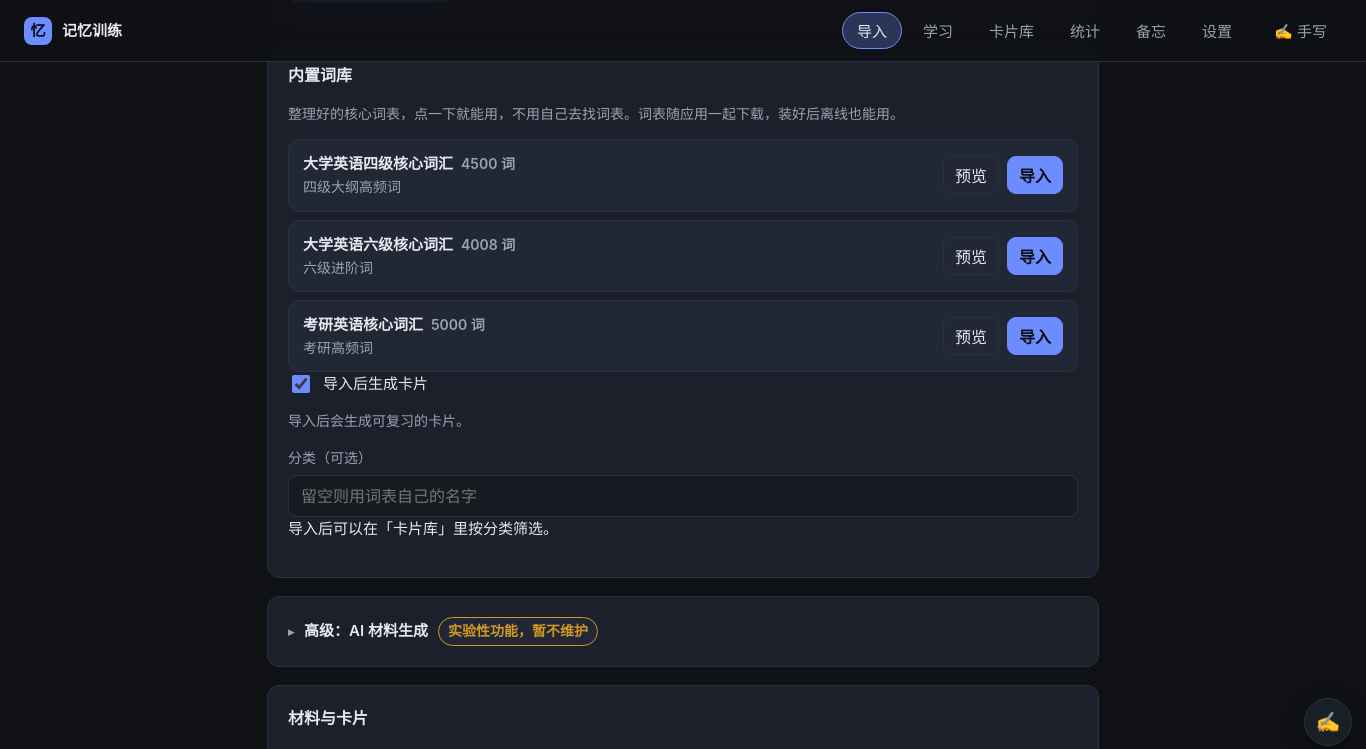
Test: 内置词库面板 › 取消勾选后只保存词表，不生成卡片
(page scrolled)
Expected: the heading "内置词库" is shown, x1=288 y1=65 x2=352 y2=85
Click the checkbox labelled "导入后生成卡片": click(301, 384) x1=292 y1=376 x2=310 y2=394
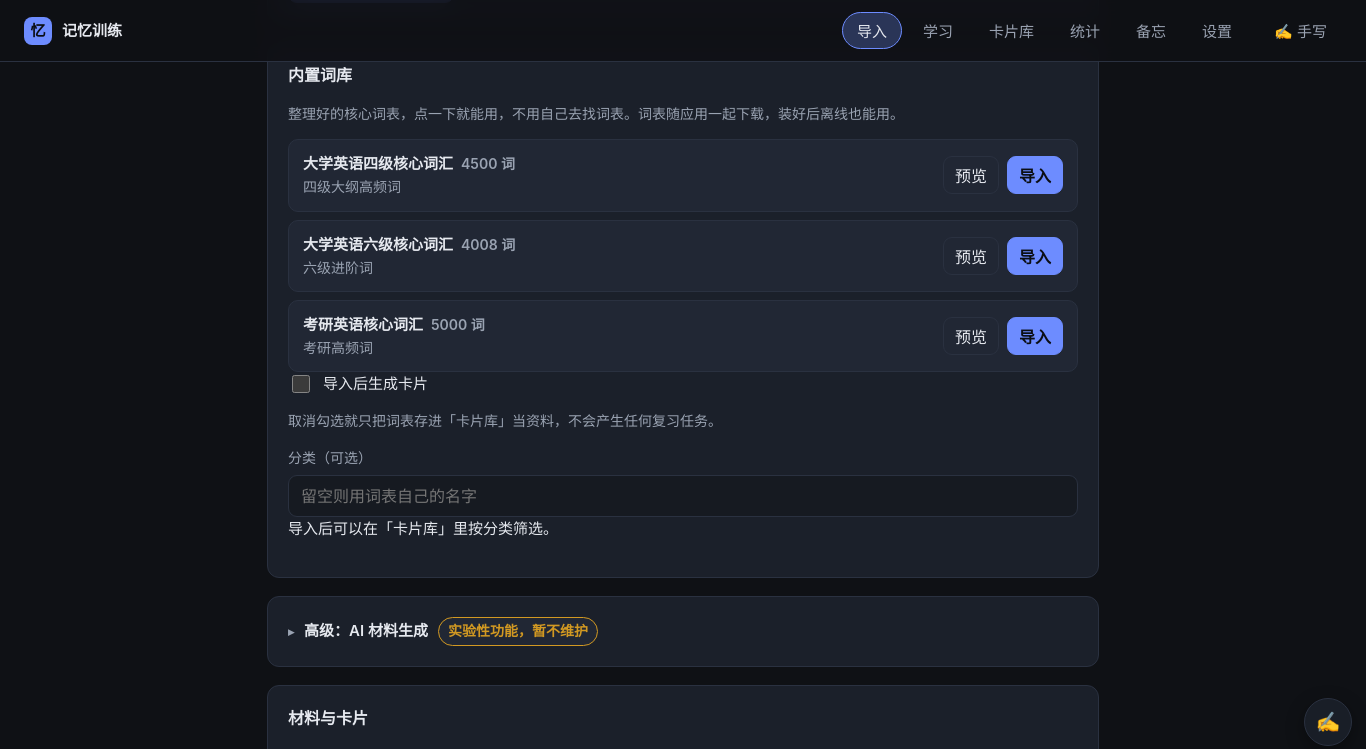
Click the button "导入" in the row of "大学英语四级核心词汇": click(1035, 176) x1=1007 y1=156 x2=1063 y2=194
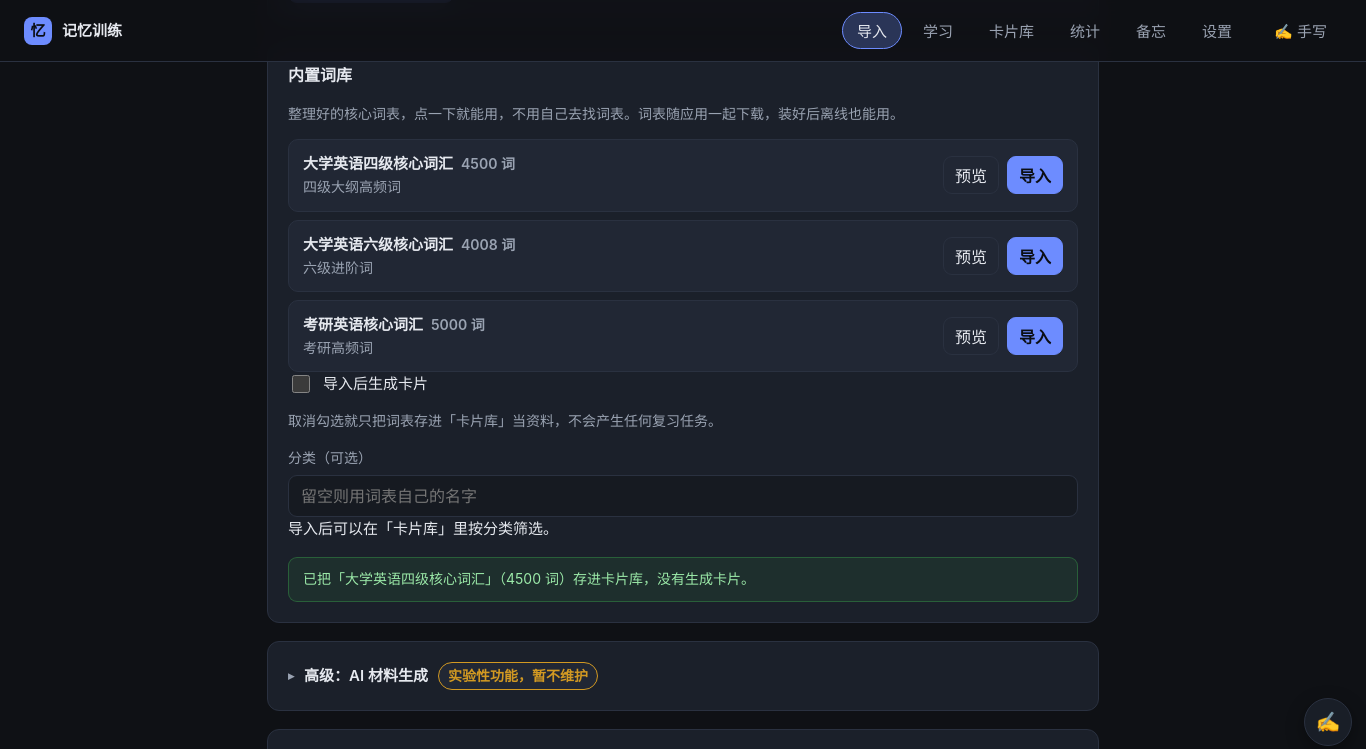
Now the text "已把「大学英语四级核心词汇」（4500 词）存进卡片库，没有生成卡片。" is shown, box x1=288 y1=557 x2=1078 y2=602
